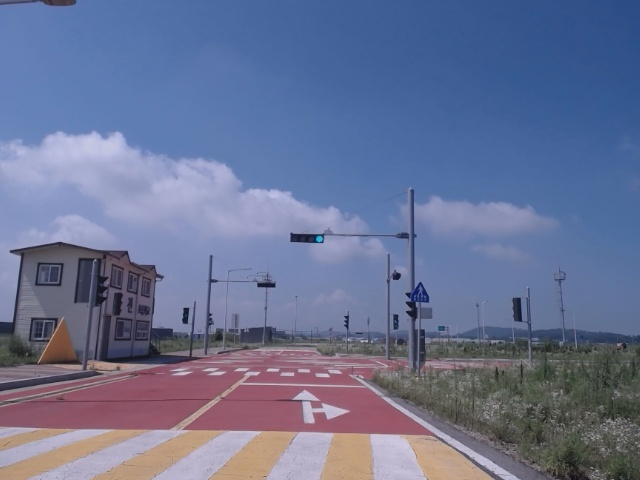straight_green_4: (290, 234, 324, 243)
